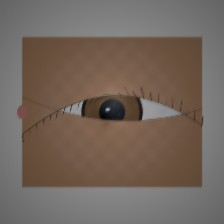pinguecula_lesion: (24, 97, 63, 128)
